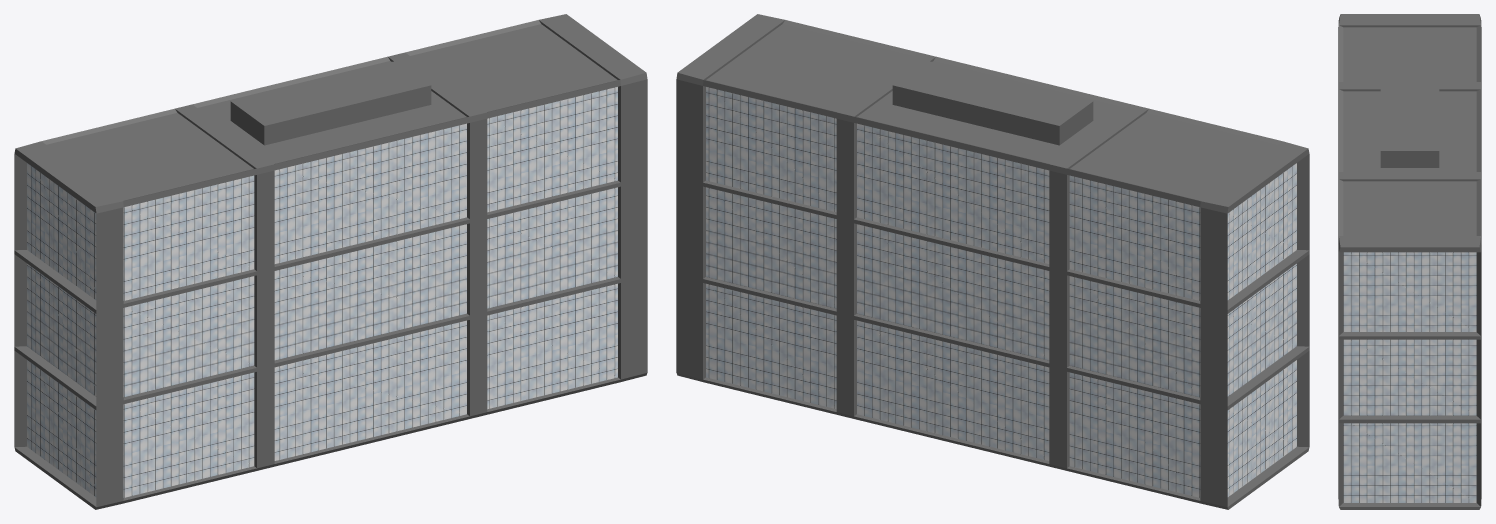
The model's file is skyscraper_08.fbx.
3 views of the same model, side by side, from view 1: azimuth 30°, elevation 25°; view 2: azimuth 150°, elevation 25°; view 3: azimuth 270°, elevation 25° (orthographic). The views are drawn at different scales.
Visible parts, largest first — view 1: skyscraper2; view 2: skyscraper2; view 3: skyscraper2.
Boxes of the visible parts, <box> form: skyscraper2: <box>14,14,647,509</box>; skyscraper2: <box>676,14,1309,509</box>; skyscraper2: <box>1338,14,1481,509</box>.
Size of the model in its own units: 5656 by 3140 by 1469.
